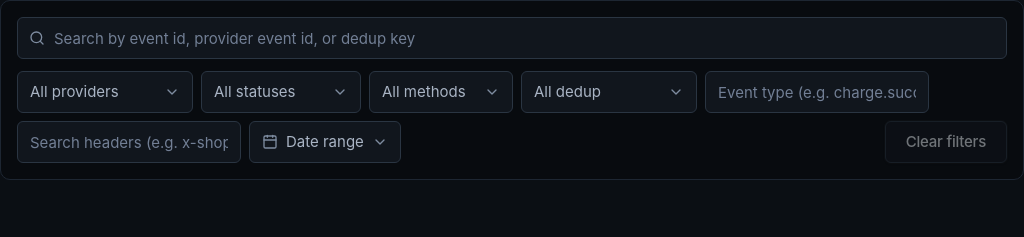
Test case: EventsFilterBar — the search floor is explained, not silently enforced › says why a 1-2 char term has not run, and stops once it can
The width and height of the screenshot is (1024, 237).
Check: the text "Keep typing" is not shown
Type "ab" into the search field named "Search events" at (512, 38), box [17,17,1007,59]
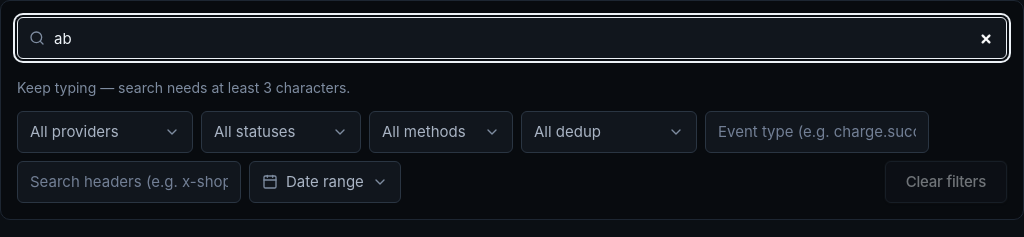
Check: the text "Keep typing — search needs at least 3 characters." is shown, box [17,79,350,96]
Type "c" into the search field named "Search events" at (512, 38), box [17,17,1007,59]
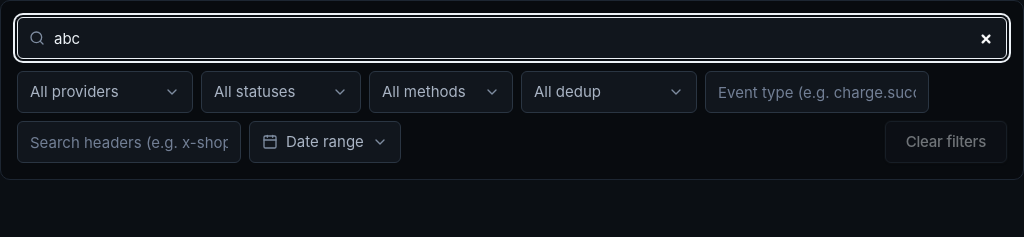
Check: the text "Keep typing" is gone
